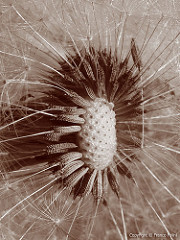dandelion: (6, 12, 180, 235)
